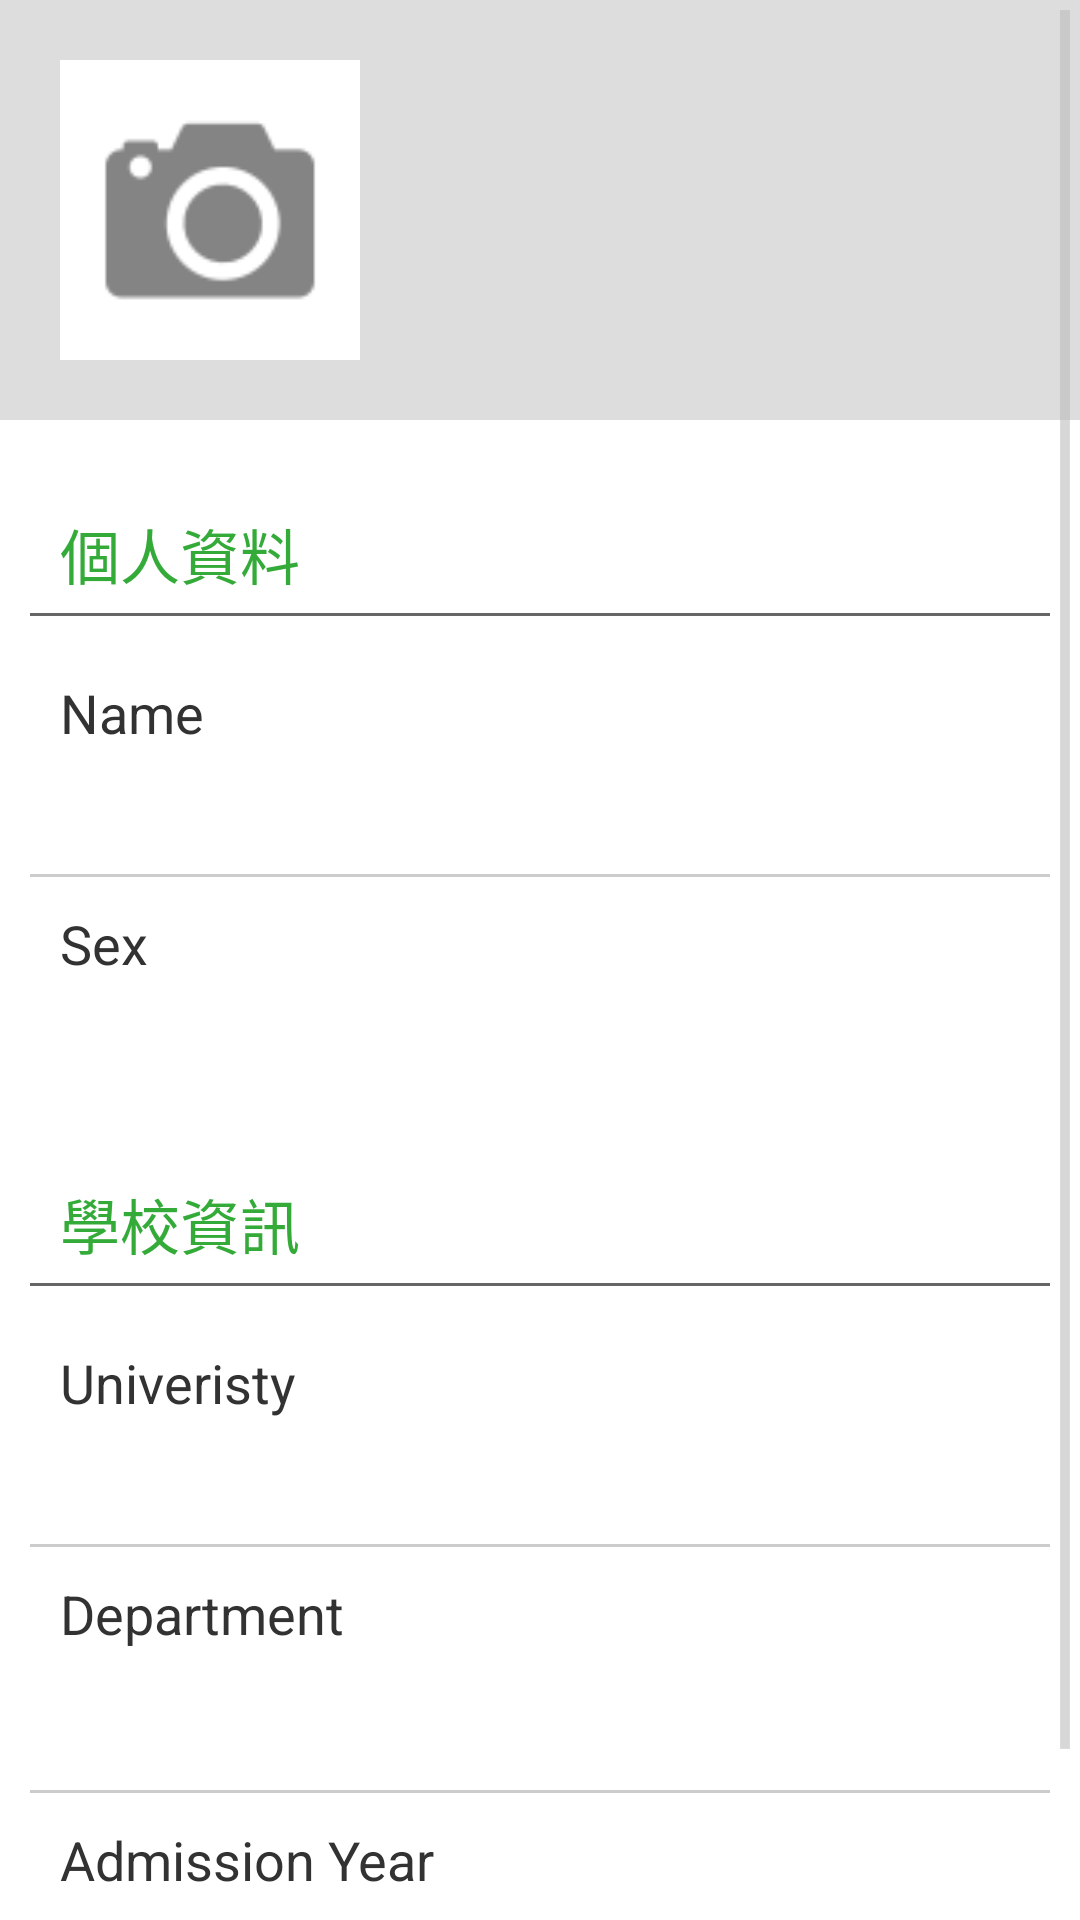

Screen size 1080px×1920px. Icon name, then its center in pixels as (x=x, y=y):
camera: (x=210, y=210)
